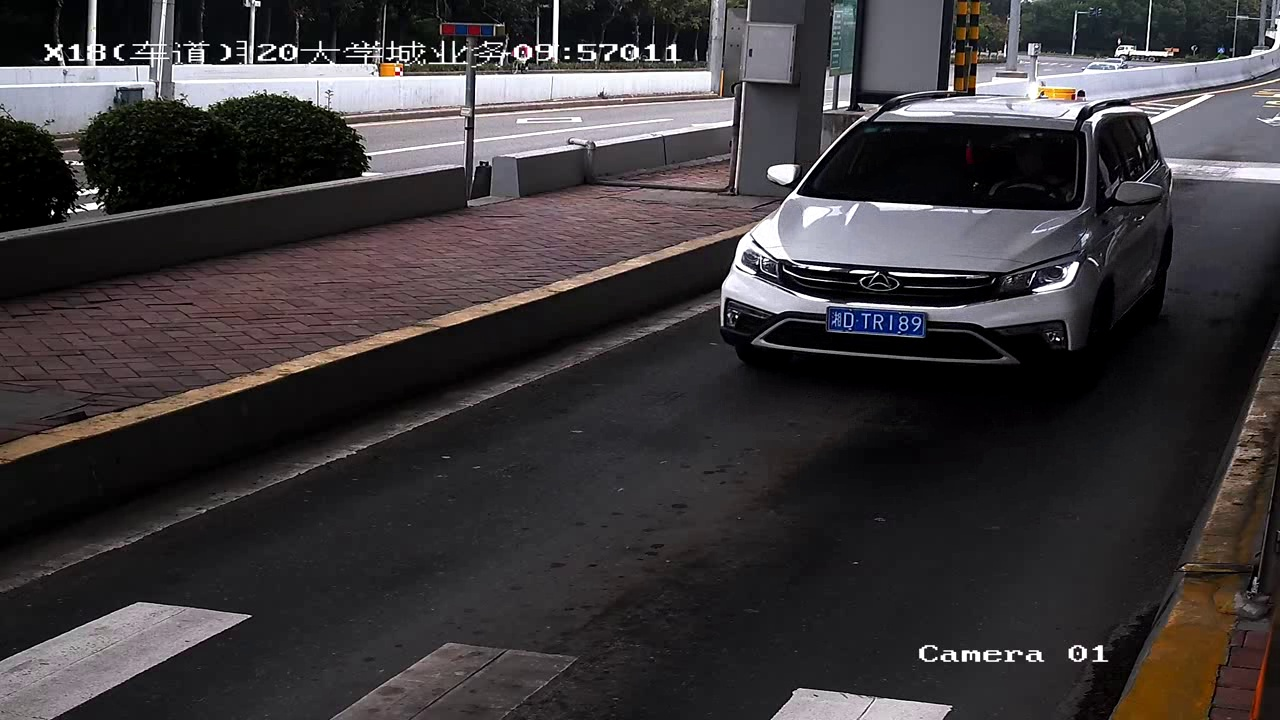bluePlate: (824, 300, 930, 340)
car: (714, 83, 1180, 397)
